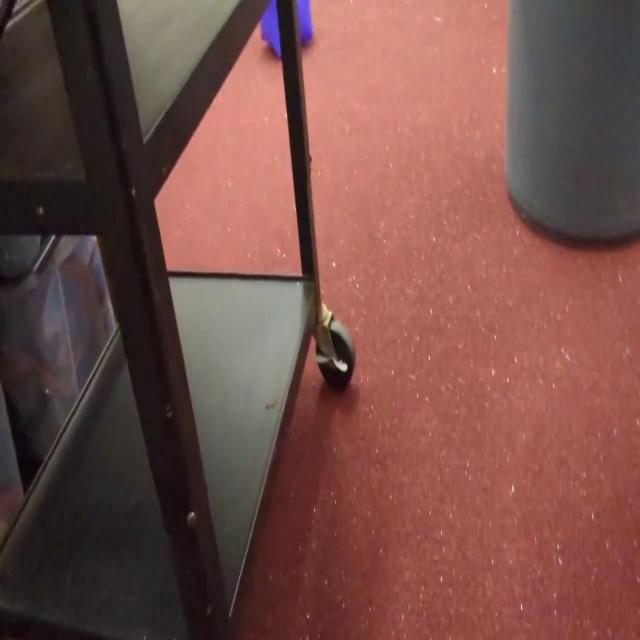frc_cube: (261, 0, 313, 57)
